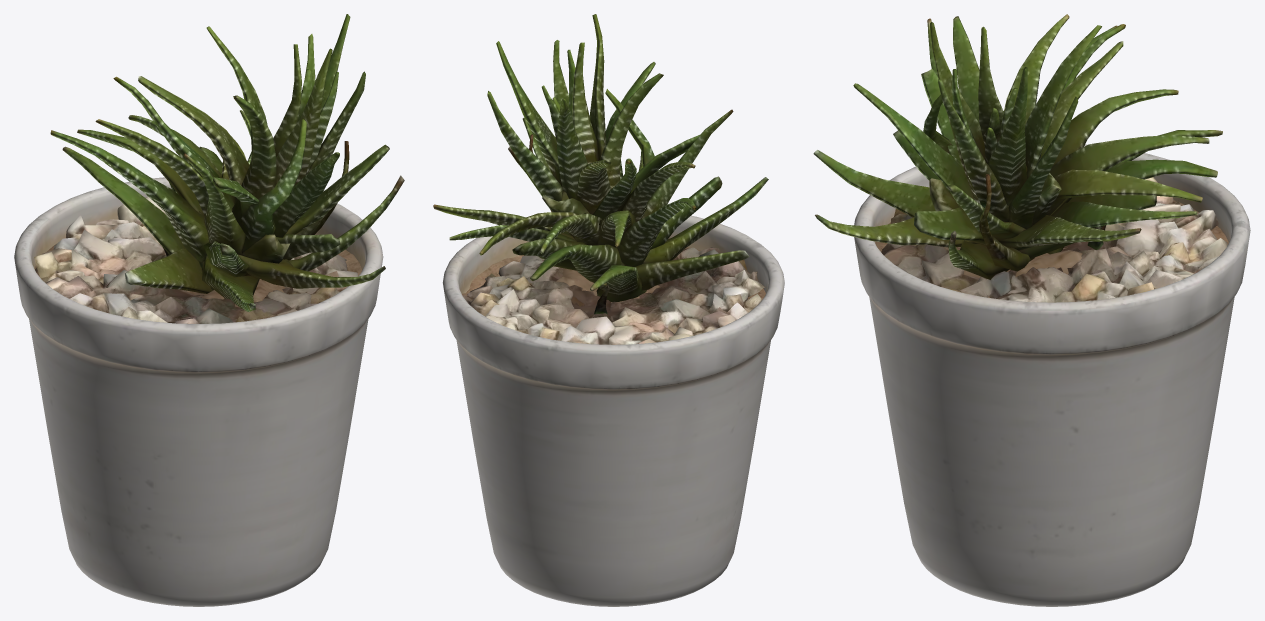
The model's file is potted_plant_04.glb.
3 views of the same model, side by side, from view 1: azimuth 30°, elevation 25°; view 2: azimuth 150°, elevation 25°; view 3: azimuth 270°, elevation 25° (orthographic). The views are drawn at different scales.
Visible parts, largest first — view 1: potted_plant_04_ground; view 2: potted_plant_04_ground; view 3: potted_plant_04_ground.
Part boxes in pixels (x1,y1,x2,y2): potted_plant_04_ground: (14,14,404,606); potted_plant_04_ground: (433,14,784,606); potted_plant_04_ground: (813,14,1250,606).
Size of the model in its own units: 0.1679 by 0.2675 by 0.1847.
1 material, 1 textured.
